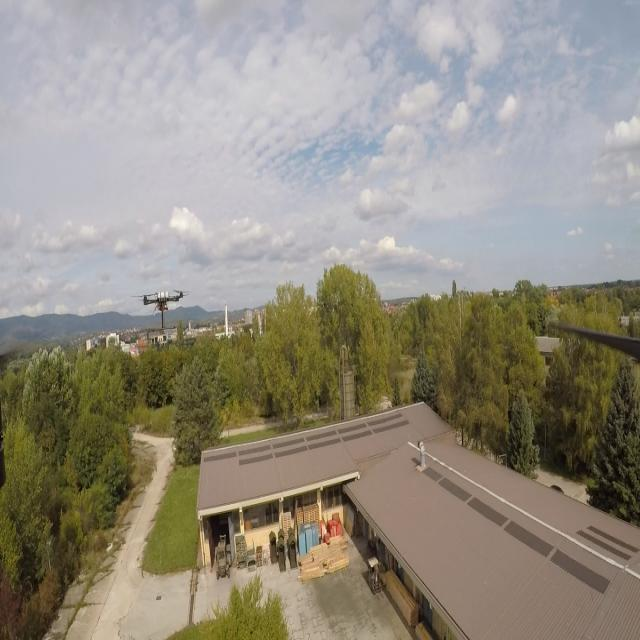UAV: (128, 280, 193, 332)
